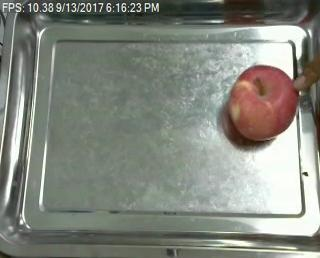apple: (227, 66, 297, 142)
